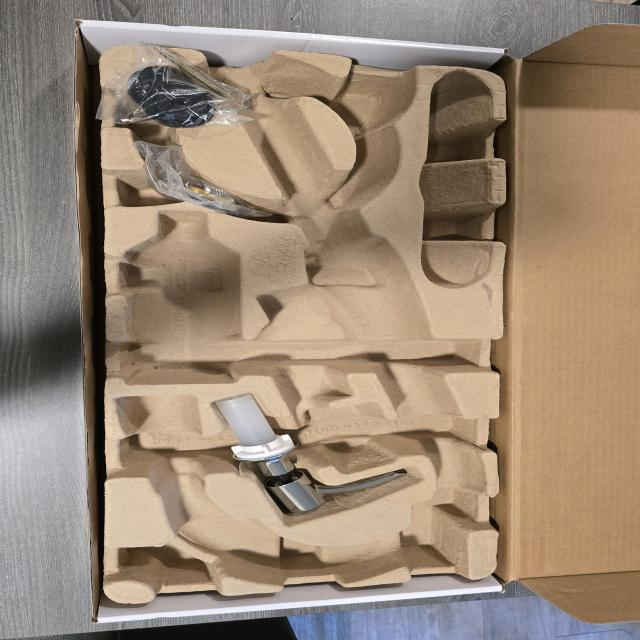1m: (117, 50, 481, 580)
2: (212, 392, 406, 515)
3m: (124, 211, 238, 384)
4m: (419, 72, 490, 288)
5m: (333, 80, 406, 127)
6: (132, 139, 278, 219)
7: (95, 40, 258, 138)
